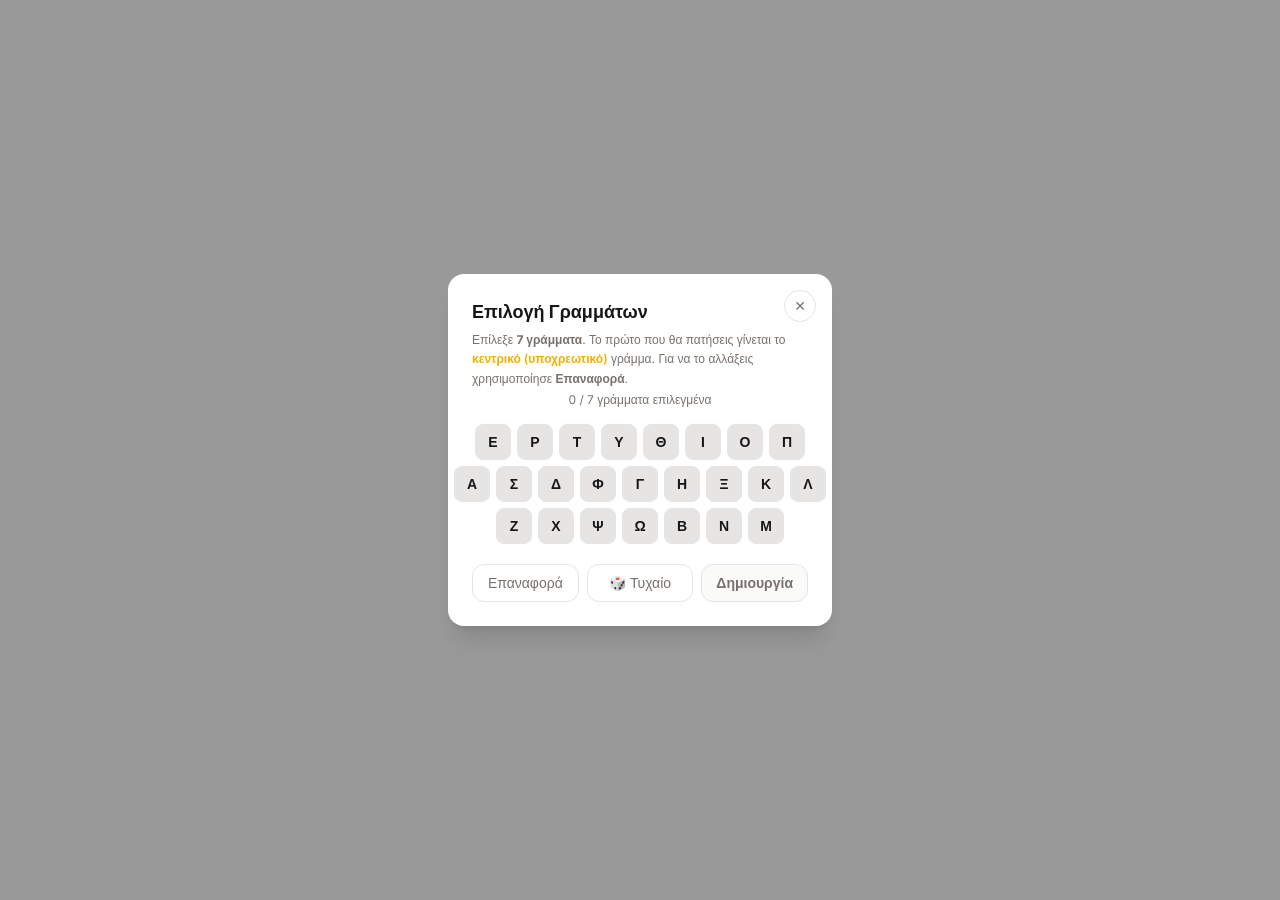
Test: LetterPickerModal — center letter › first tapped letter becomes the center
Click the button "Α". click: (472, 484)
box: [454, 466, 490, 502]
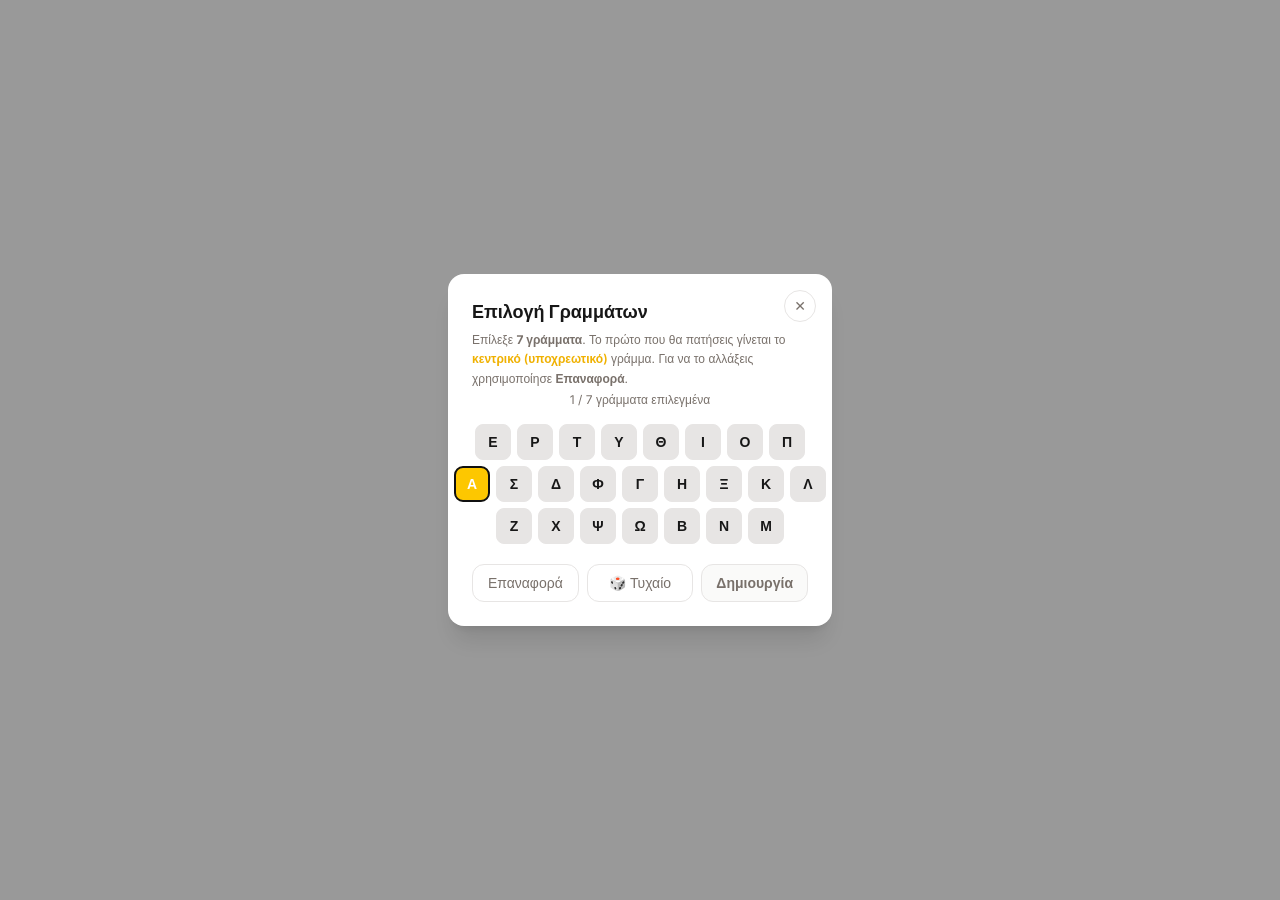
Now the text with test id "letter-picker-count" shows "1 / 7", box [570, 392, 710, 407]
